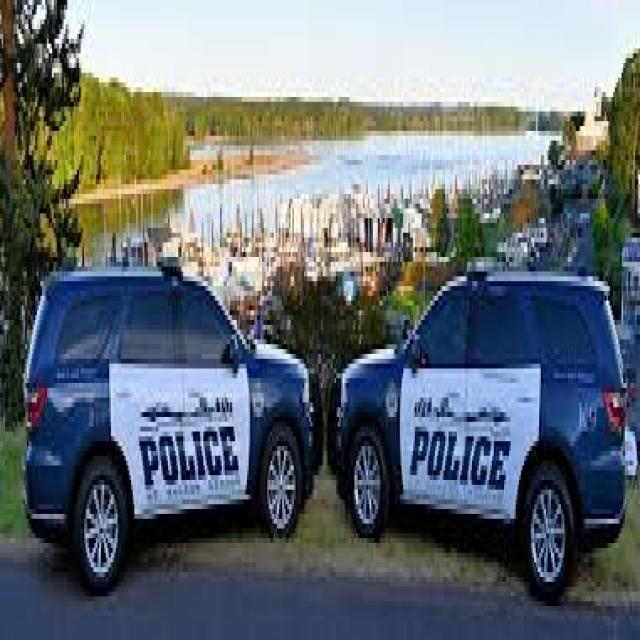cop: (326, 260, 632, 605), (23, 259, 324, 599)
